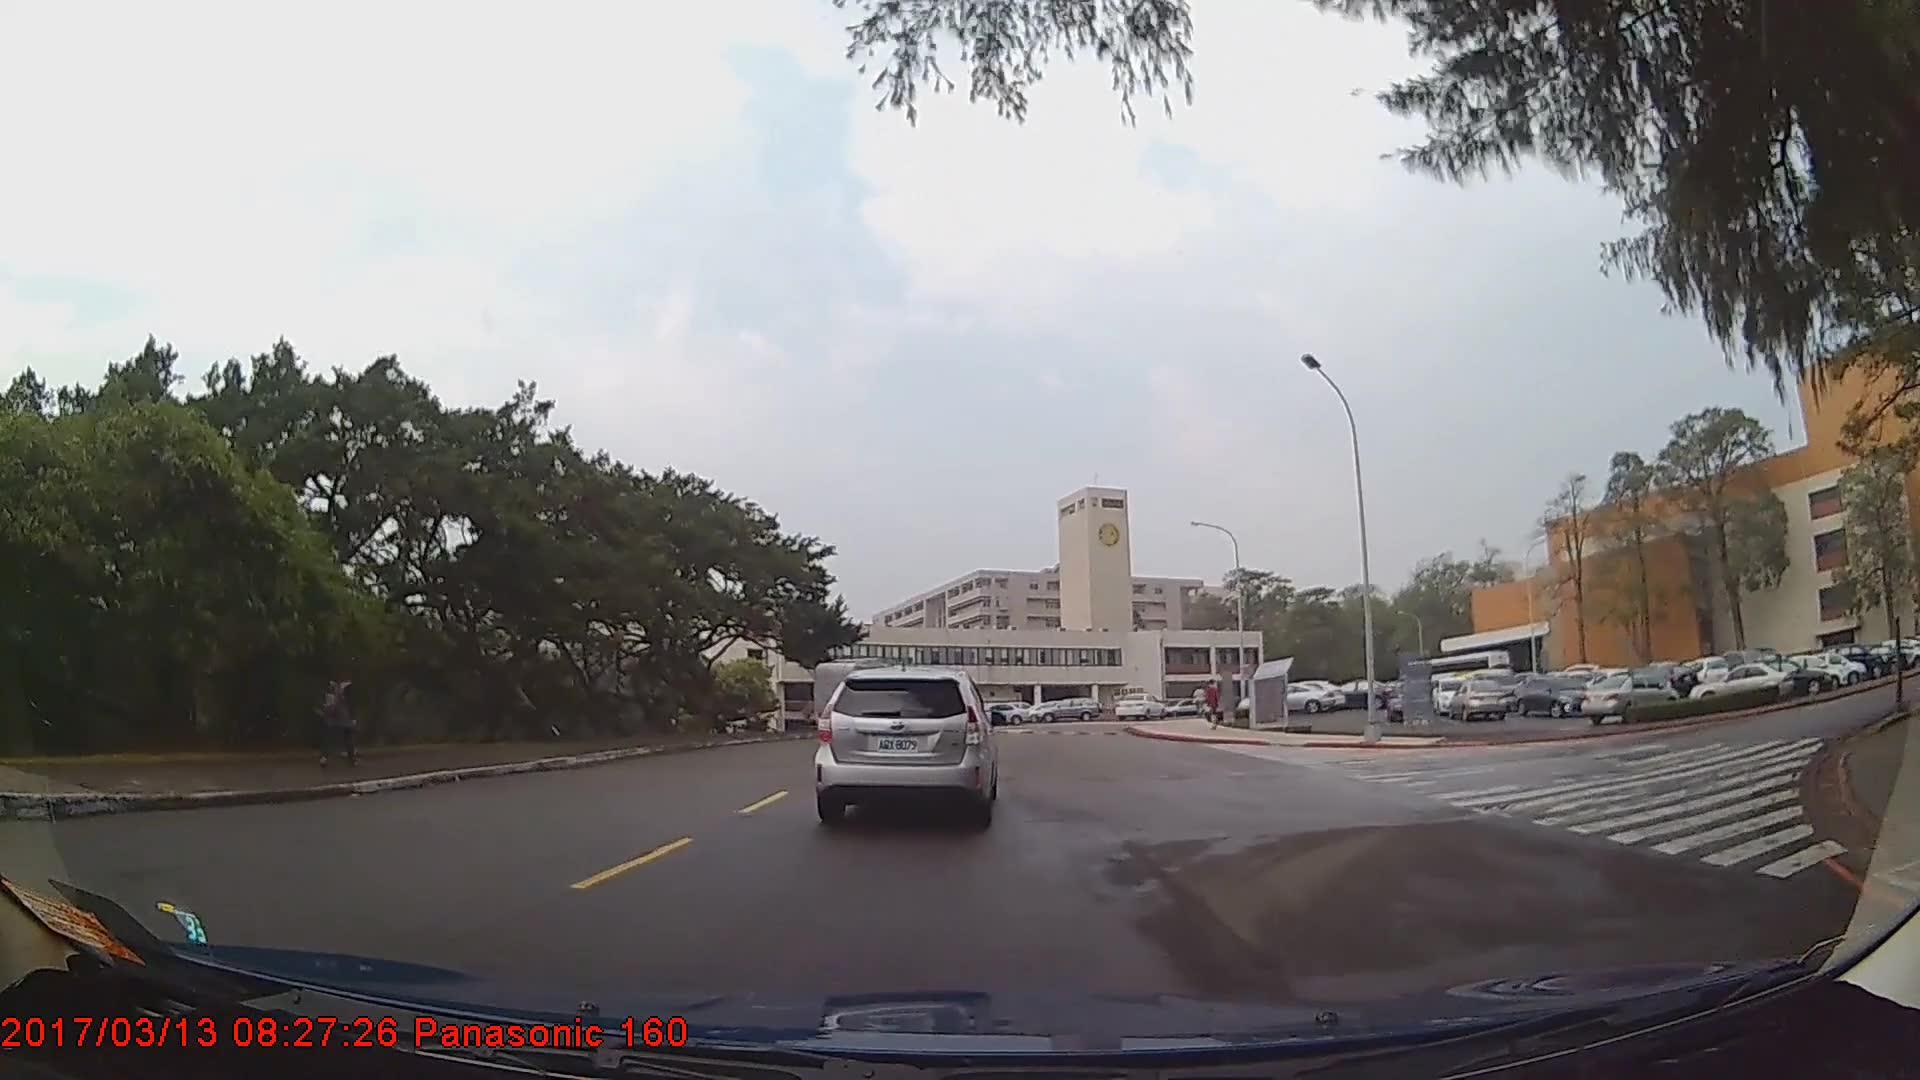pedestrian: (311, 660, 360, 770), (1203, 680, 1224, 732)
vehicle: (816, 665, 994, 824), (1583, 671, 1676, 725), (1688, 657, 1790, 705), (1739, 655, 1834, 697), (1238, 679, 1335, 716), (1517, 672, 1593, 715), (1446, 676, 1509, 722), (1035, 696, 1100, 722), (1113, 690, 1163, 722), (973, 700, 1032, 725)
